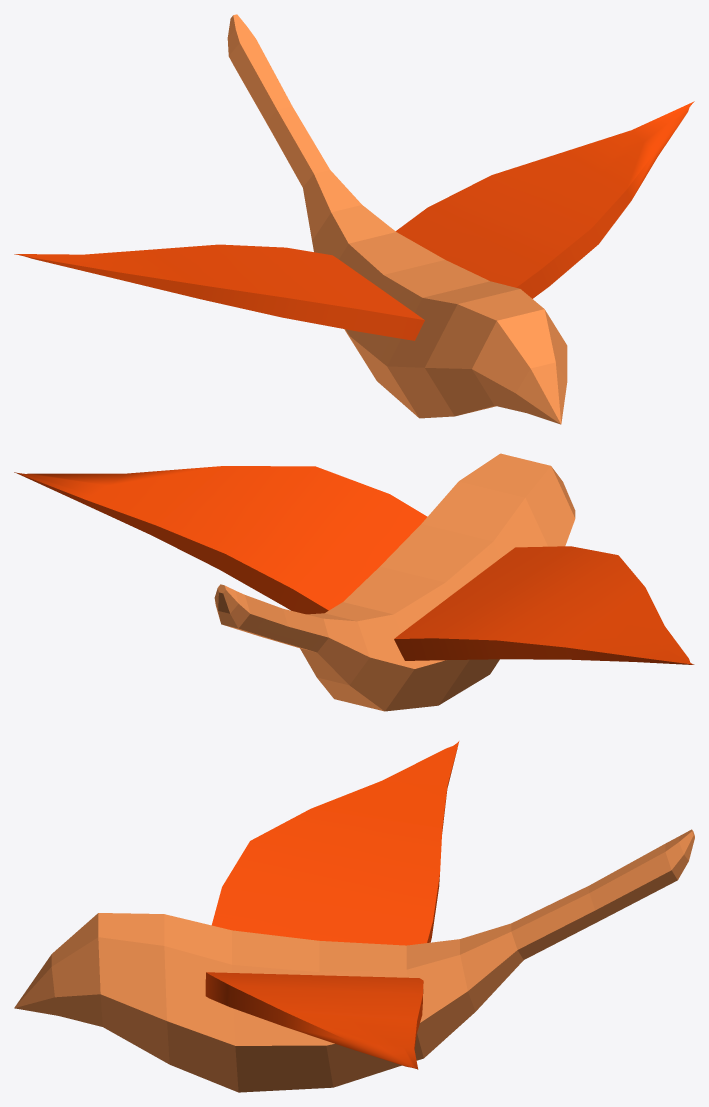
Rendered from BoidModel.obj.
3 views of the same model, one above another, from view 1: azimuth 30°, elevation 25°; view 2: azimuth 150°, elevation 25°; view 3: azimuth 270°, elevation 25° (orthographic). The views are drawn at different scales.
Parts seen in each view (by area): view 1: Bird, Bird_LW, Bird_RW; view 2: Bird, Bird_LW, Bird_RW; view 3: Bird, Bird_RW, Bird_LW.
Boxes of the visible parts, box(x1,y1,x2,y2) form: Bird: box(227, 14, 567, 424); Bird_LW: box(395, 101, 694, 298); Bird_RW: box(14, 244, 424, 340); Bird: box(214, 453, 575, 711); Bird_LW: box(14, 466, 427, 614); Bird_RW: box(394, 546, 694, 664); Bird: box(14, 829, 694, 1092); Bird_RW: box(211, 741, 459, 945); Bird_LW: box(205, 972, 423, 1069).
Size of the model in its own units: 5.53 by 1.88 by 4.74.
2 materials, 2 textured.
